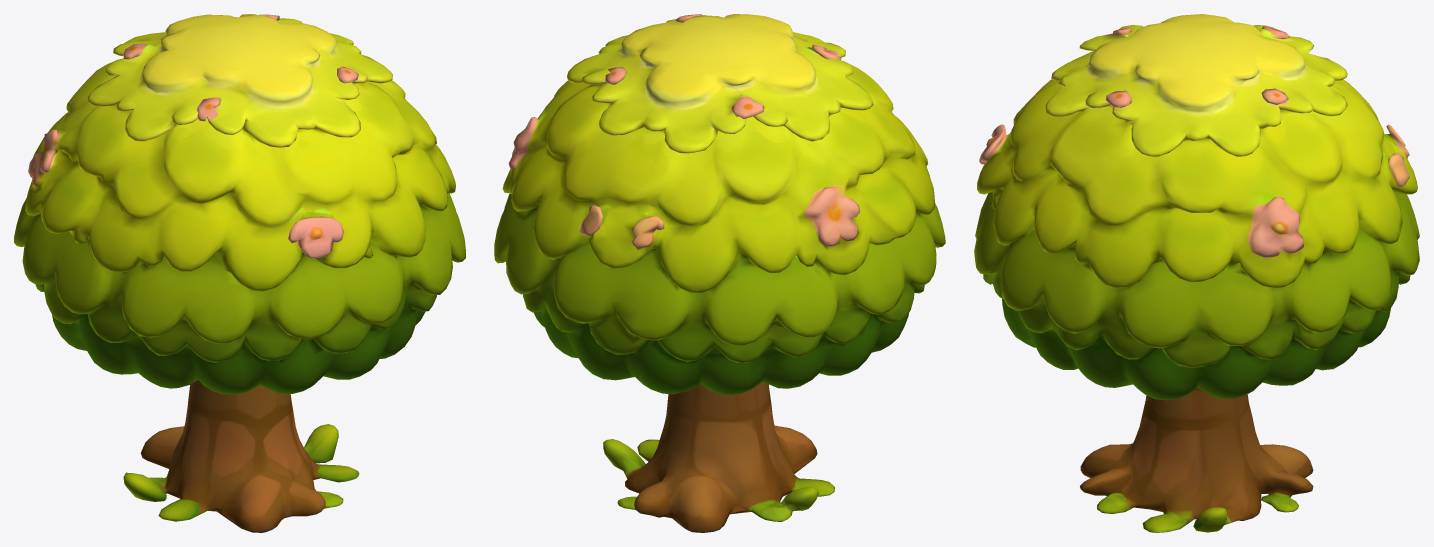
The model's file is tree2.glb.
3 renders of one model, left to right at view 1: azimuth 30°, elevation 25°; view 2: azimuth 150°, elevation 25°; view 3: azimuth 270°, elevation 25°, orthographic.
Parts seen in each view (by area): view 1: Mesh_0.001; view 2: Mesh_0.001; view 3: Mesh_0.001.
Part boxes in pixels (<box>): Mesh_0.001: <box>14,14,465,532</box>; Mesh_0.001: <box>494,14,945,532</box>; Mesh_0.001: <box>974,14,1419,532</box>.
Size of the model in its own units: 0.1079 by 0.12 by 0.1084.
1 material, 1 textured.
